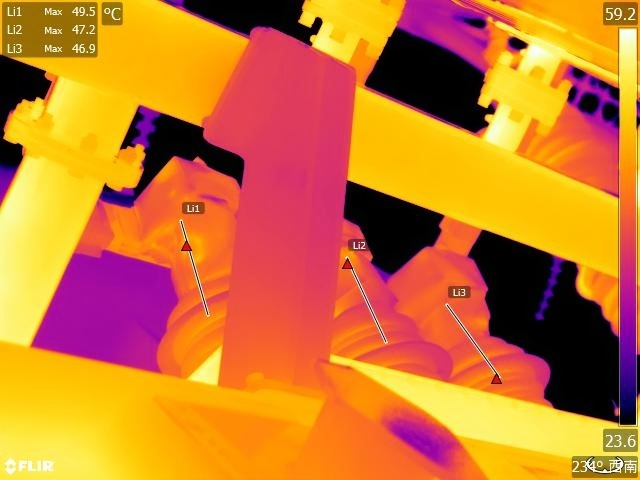tube: (386, 234, 567, 417), (132, 200, 285, 397), (314, 215, 447, 390), (526, 103, 621, 345)
